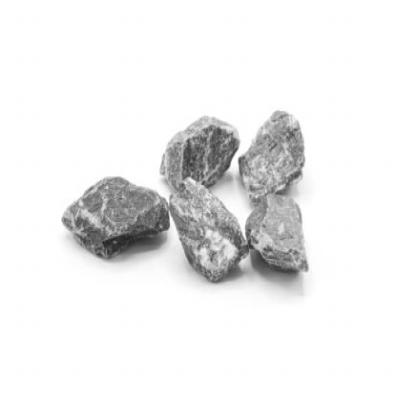Igneous_Basalt: (52, 170, 172, 260), (152, 181, 249, 272), (242, 189, 319, 281), (238, 109, 313, 199), (156, 118, 240, 190)
